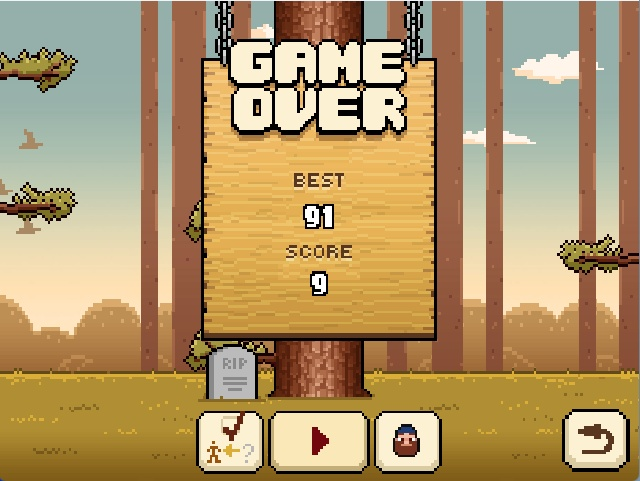game_over: (225, 33, 409, 147)
